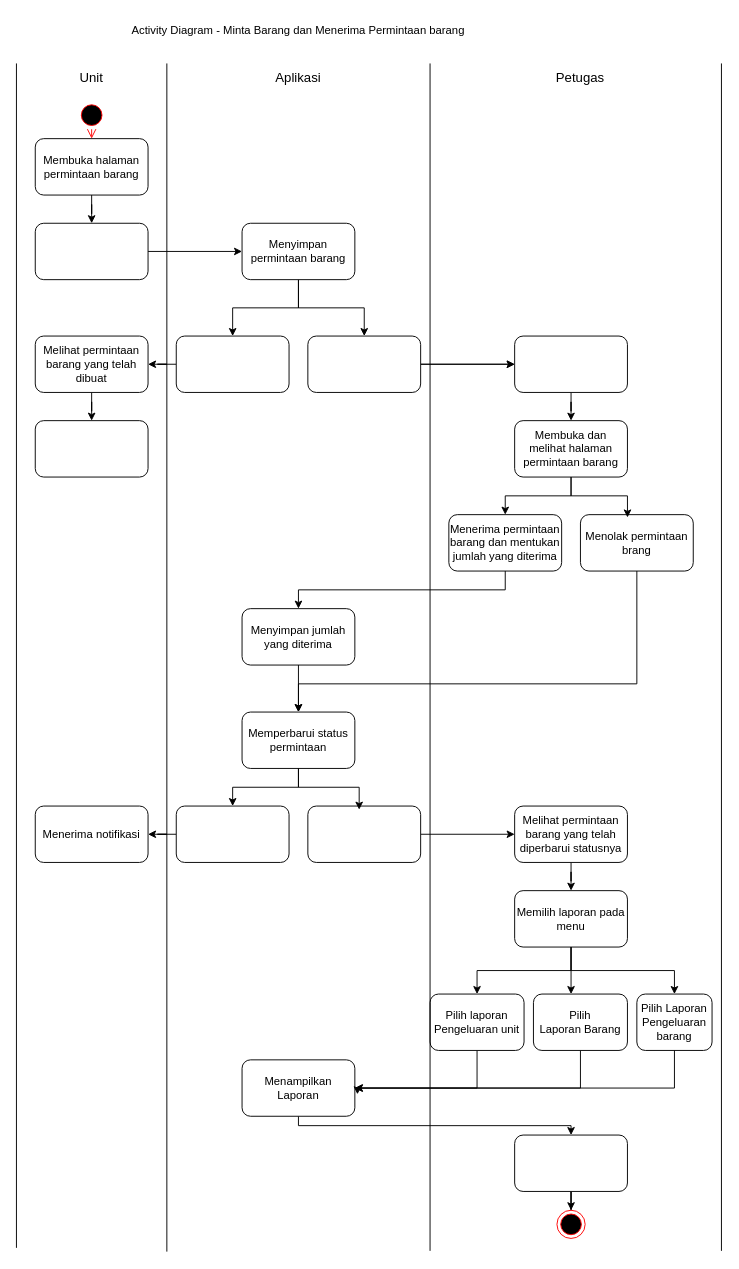
The diagram is 739 pixels wide and 1269 high, and some of its shapes have lost their labels. The shapes that lost their labels are listed below. From the top down, each one's box as (x1, y1, x2, y2) in pixels, then its label:
(34, 222, 148, 280): Input barang-barang yang diminta
(175, 335, 289, 392): Menampilkan permintaan barang yang tel ah dibuat
(307, 335, 421, 392): Kirim notifikasi permintaan barang
(514, 335, 627, 392): Menerima notifikasi permintaan barang
(34, 420, 148, 477): Cetak permintaan barang
(175, 805, 289, 862): Kirim notifikasi ditolak atau diterimanya permintaan barang
(307, 805, 421, 862): Menampilkan permintaan barang yang telah diperbarui statusnya
(514, 1134, 627, 1191): Mengunduh Laporan
